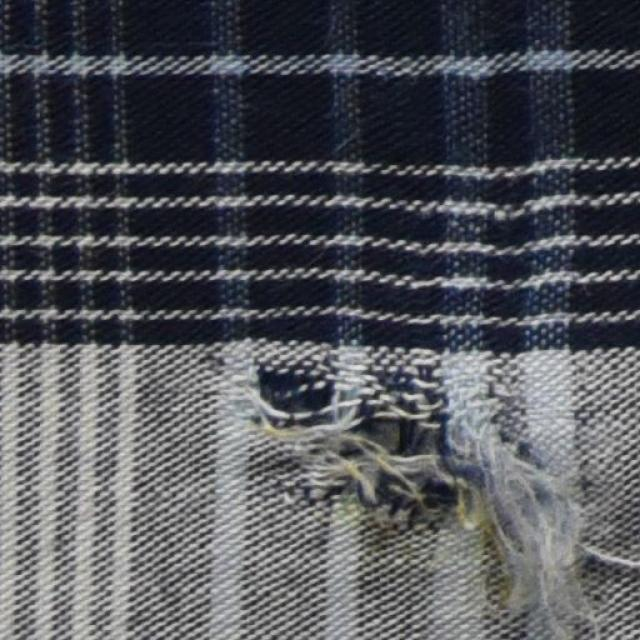Snag: (258, 365, 598, 635)
Stain: (453, 471, 515, 593)
